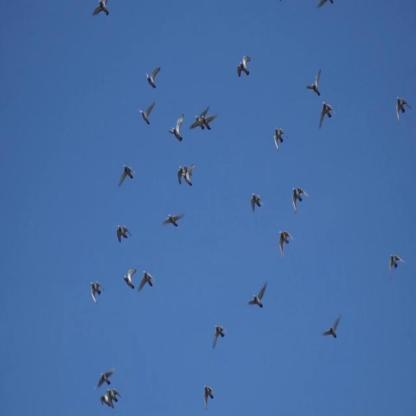bird: (248, 281, 269, 310), (93, 367, 116, 393), (136, 101, 158, 126), (189, 106, 210, 132), (396, 95, 414, 125), (168, 112, 185, 143), (137, 269, 158, 294), (319, 101, 337, 130), (292, 185, 309, 215), (162, 210, 186, 231), (321, 316, 342, 340), (191, 113, 219, 131), (118, 163, 137, 189), (306, 68, 322, 98), (278, 230, 295, 258), (90, 279, 106, 308), (390, 252, 407, 278), (212, 323, 228, 350), (237, 53, 252, 79), (274, 127, 289, 153), (146, 66, 162, 90), (203, 384, 216, 412), (250, 190, 265, 214), (181, 163, 196, 187), (177, 165, 193, 187), (116, 224, 133, 244), (107, 388, 122, 410), (93, 0, 111, 18), (124, 267, 137, 290), (100, 394, 112, 407)
